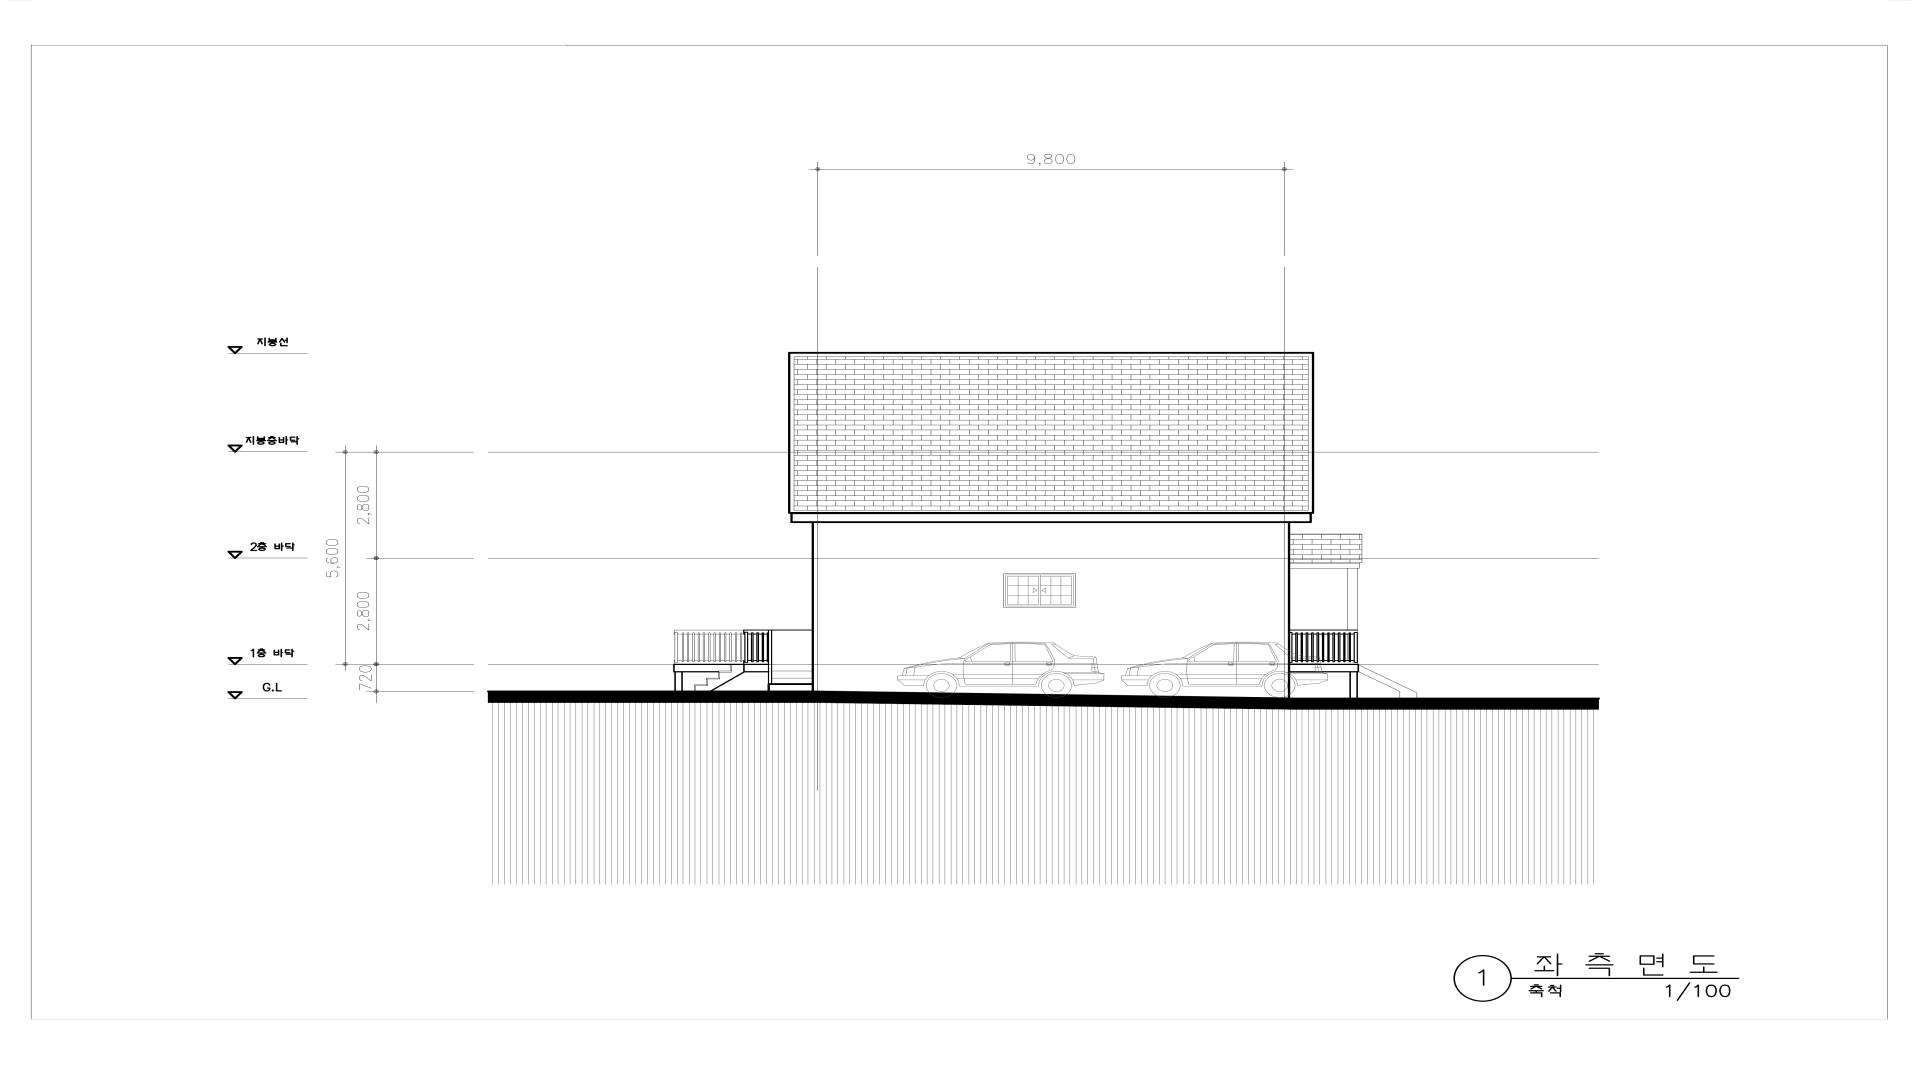wall: (789, 352, 1315, 709)
window: (1004, 574, 1075, 608)
